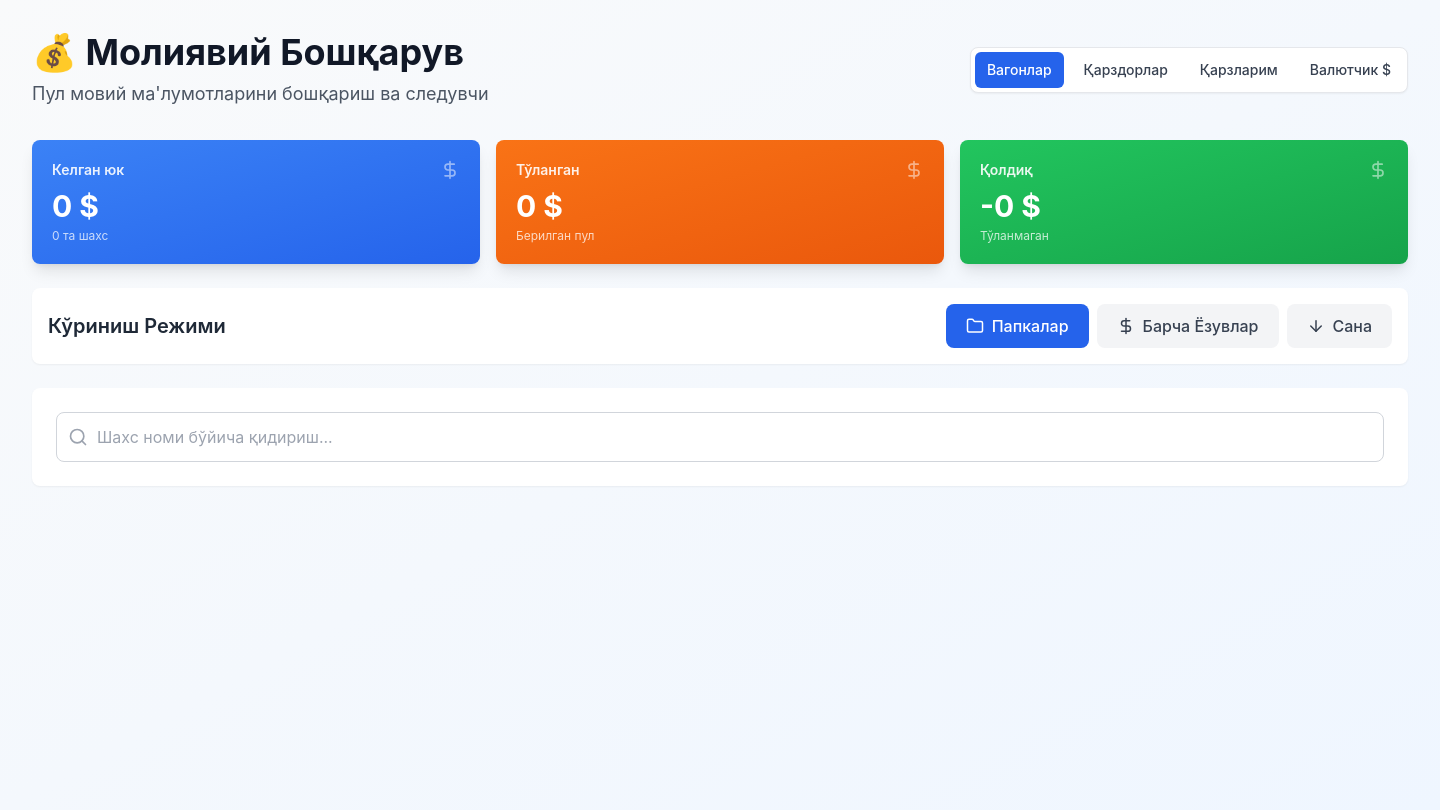
Scenario: Moliya page › lists each person on the tab their balance puts them, with matching cards
Expected: the button "Вагонлар" is shown, x1=975 y1=52 x2=1064 y2=88
Step 1. Click the button "Қарздорлар" → click(1126, 70), box x1=1072 y1=52 x2=1180 y2=88
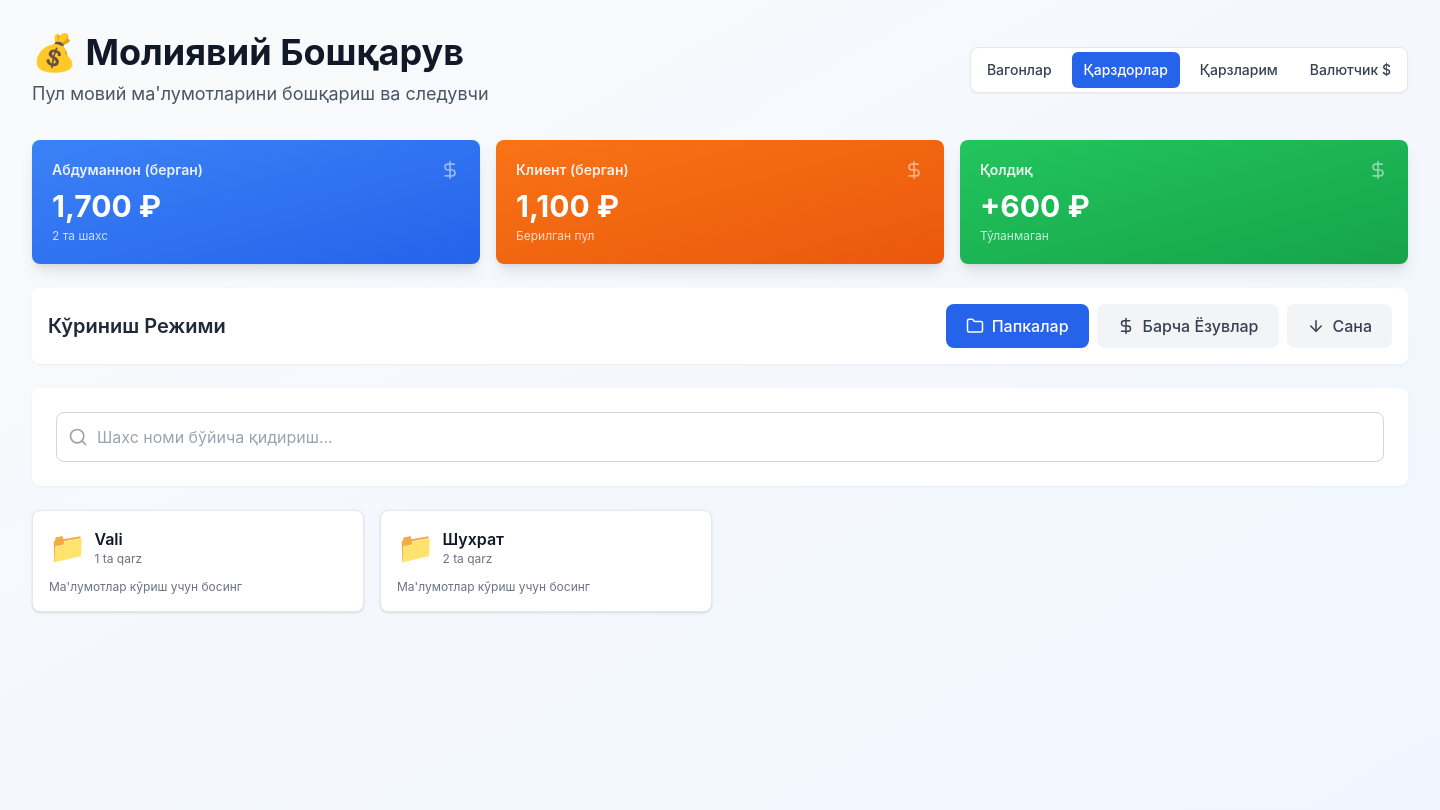
Result: the heading "Шухрат" is shown at x1=442 y1=529 x2=504 y2=549
Result: the heading "Vali" is shown at x1=94 y1=529 x2=123 y2=549
Result: the text "1,700 ₽" is shown at x1=52 y1=188 x2=161 y2=224
Step 2. Click the button "Қарзларим" → click(1239, 70), box x1=1188 y1=52 x2=1290 y2=88
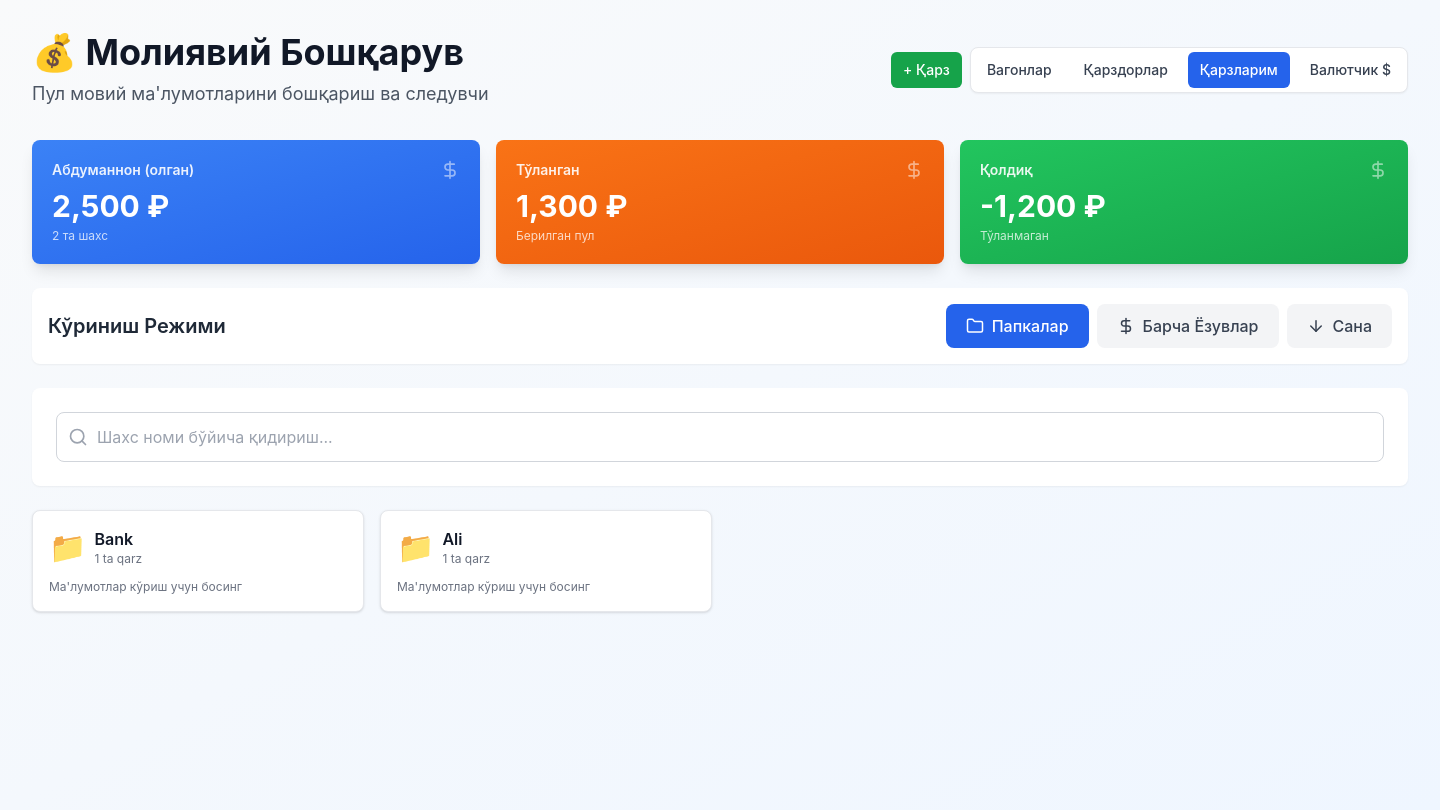
Result: the heading "Ali" is shown at x1=442 y1=529 x2=462 y2=549
Result: the heading "Bank" is shown at x1=94 y1=529 x2=133 y2=549
Result: the heading "Шухрат" is gone
